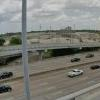Bridge: (3, 28, 96, 51)
